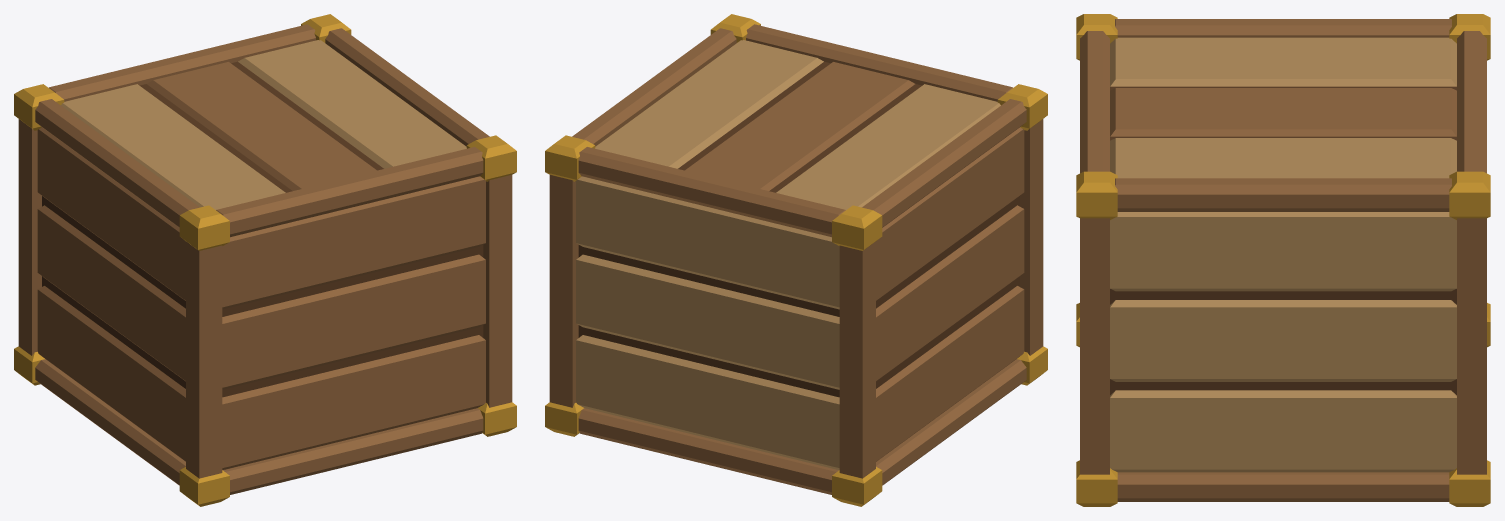
The model's file is Crate_06.glb.
3 renders of one model, left to right at view 1: azimuth 30°, elevation 25°; view 2: azimuth 150°, elevation 25°; view 3: azimuth 270°, elevation 25°, orthographic. The views are drawn at different scales.
Visible parts, largest first — view 1: Crate_06; view 2: Crate_06; view 3: Crate_06.
Part boxes in pixels (x1,y1,x2,y2): Crate_06: (14,14,516,506); Crate_06: (545,14,1047,506); Crate_06: (1076,14,1490,506).
Size of the model in its own units: 2.2 by 1.9 by 2.2.
